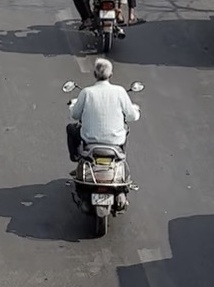BikeWithRider: (54, 53, 154, 240)
NoHelmet: (90, 57, 116, 82)
